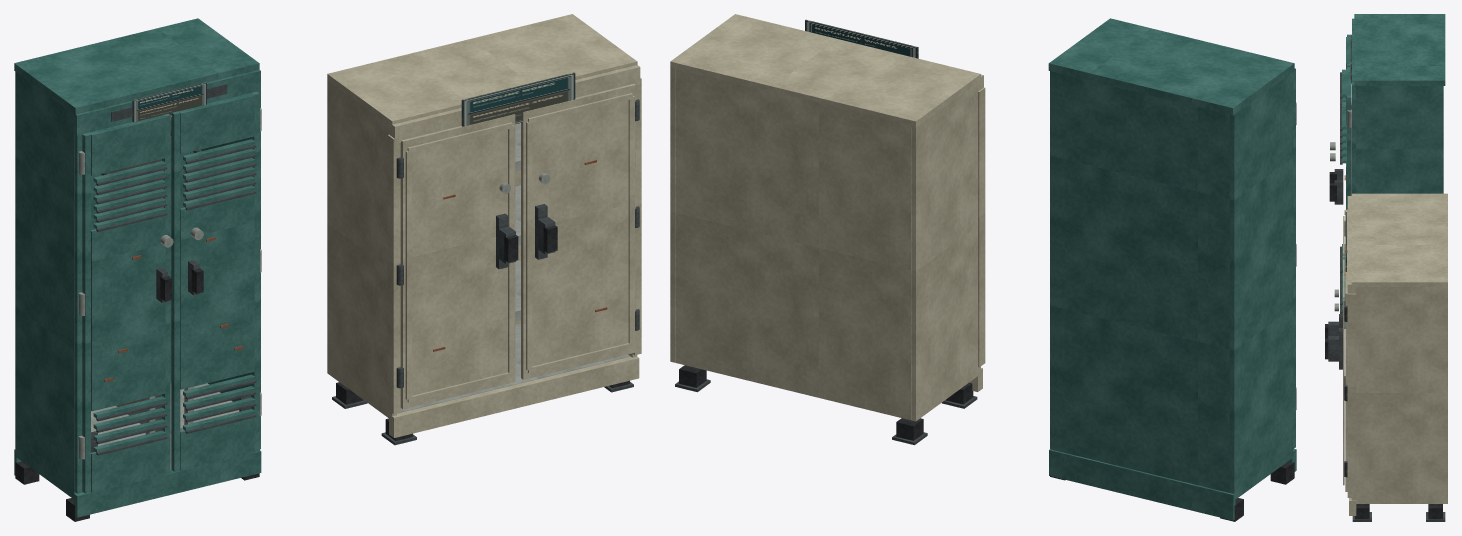
The model's file is PROJECT_Z_Metal_Locker_Cabinet_Master.glb.
The picture shows the model from 3 angles, left to right: view 1: azimuth 30°, elevation 25°; view 2: azimuth 150°, elevation 25°; view 3: azimuth 270°, elevation 25°; orthographic projection. The views are drawn at different scales.
Parts seen in each view (by area): view 1: Cabinet_Left_Door_Sheet_NODE, Cabinet_Right_Door_Sheet_NODE, Locker_Left_SheetWall_NODE, Cabinet_Left_SheetWall_NODE, Cabinet_Ceiling_Inner_NODE, Locker_Left_Door_Sheet_Middle_NODE, Locker_Roof_Stamped_NODE, Locker_Right_Door_Sheet_Middle_NODE, Cabinet_Front_BottomSkirt_NODE, Locker_Front_Bottom_Kick_NODE, Cabinet_Left_FrontJamb_NODE, Locker_Right_Door_VerticalFrame_0.404_NODE (+20 smaller); view 2: Cabinet_Rear_SheetWall_NODE, Locker_Rear_SheetWall_NODE, Locker_Left_SheetWall_NODE, Cabinet_Left_SheetWall_NODE, Cabinet_Ceiling_Inner_NODE, Locker_Roof_Stamped_NODE, Locker_Rear_Base_Apron_NODE, Cabinet_Left_FrontJamb_NODE, Locker_Right_SheetWall_NODE, Cabinet_Right_SheetWall_NODE, Cabinet_ManufacturerNameplate_NODE, Locker_Left_Front_Jamb_NODE; view 3: Cabinet_Right_SheetWall_NODE, Locker_Right_SheetWall_NODE, Cabinet_Ceiling_Inner_NODE, Locker_Roof_Stamped_NODE, Cabinet_Right_FrontJamb_NODE, Cabinet_Right_Door_Sheet_NODE, Cabinet_Front_TopLintel_NODE, Locker_Right_Door_VerticalFrame_0.014_NODE, Locker_Right_Front_Jamb_NODE, Cabinet_Right_RaisedFrame_Vert_0.031_NODE, Cabinet_Right_Pull_Offset_NODE, Locker_Front_Top_Header_NODE (+5 smaller).
Boxes of the visible parts, <box> form: Cabinet_Left_Door_Sheet_NODE: <box>400,114,515,409</box>; Cabinet_Right_Door_Sheet_NODE: <box>521,84,635,379</box>; Locker_Left_SheetWall_NODE: <box>15,72,76,499</box>; Cabinet_Left_SheetWall_NODE: <box>327,80,396,417</box>; Cabinet_Ceiling_Inner_NODE: <box>327,14,637,127</box>; Locker_Left_Door_Sheet_Middle_NODE: <box>91,215,165,411</box>; Locker_Roof_Stamped_NODE: <box>14,18,259,114</box>; Locker_Right_Door_Sheet_Middle_NODE: <box>180,194,254,389</box>; Cabinet_Front_BottomSkirt_NODE: <box>389,356,639,437</box>; Locker_Front_Bottom_Kick_NODE: <box>73,450,261,517</box>; Cabinet_Left_FrontJamb_NODE: <box>387,134,400,414</box>; Locker_Right_Door_VerticalFrame_0.404_NODE: <box>171,111,180,471</box>; Cabinet_Rear_SheetWall_NODE: <box>675,69,911,420</box>; Locker_Rear_SheetWall_NODE: <box>1054,72,1229,492</box>; Locker_Left_SheetWall_NODE: <box>1229,72,1293,500</box>; Cabinet_Left_SheetWall_NODE: <box>911,82,980,421</box>; Cabinet_Ceiling_Inner_NODE: <box>670,14,980,127</box>; Locker_Roof_Stamped_NODE: <box>1048,18,1294,115</box>; Locker_Rear_Base_Apron_NODE: <box>1049,449,1235,520</box>; Cabinet_Left_FrontJamb_NODE: <box>978,87,985,367</box>; Locker_Right_SheetWall_NODE: <box>1050,71,1054,450</box>; Cabinet_Right_SheetWall_NODE: <box>670,66,675,362</box>; Cabinet_ManufacturerNameplate_NODE: <box>805,19,918,58</box>; Locker_Left_Front_Jamb_NODE: <box>1293,89,1295,448</box>; Cabinet_Right_SheetWall_NODE: <box>1351,287,1447,503</box>; Locker_Right_SheetWall_NODE: <box>1356,86,1443,193</box>; Cabinet_Ceiling_Inner_NODE: <box>1351,193,1447,286</box>; Locker_Roof_Stamped_NODE: <box>1354,14,1445,85</box>; Cabinet_Right_FrontJamb_NODE: <box>1347,293,1356,497</box>; Cabinet_Right_Door_Sheet_NODE: <box>1345,253,1347,491</box>; Cabinet_Front_TopLintel_NODE: <box>1347,196,1355,293</box>; Locker_Right_Door_VerticalFrame_0.014_NODE: <box>1347,95,1351,209</box>; Locker_Right_Front_Jamb_NODE: <box>1352,100,1355,193</box>; Cabinet_Right_RaisedFrame_Vert_0.031_NODE: <box>1343,299,1344,483</box>; Cabinet_Right_Pull_Offset_NODE: <box>1328,336,1338,361</box>; Locker_Front_Top_Header_NODE: <box>1352,18,1357,100</box>.
Size of the model in its own units: 2.75 by 1.94 by 0.703.
Materials: 7 (7 with a texture image).
